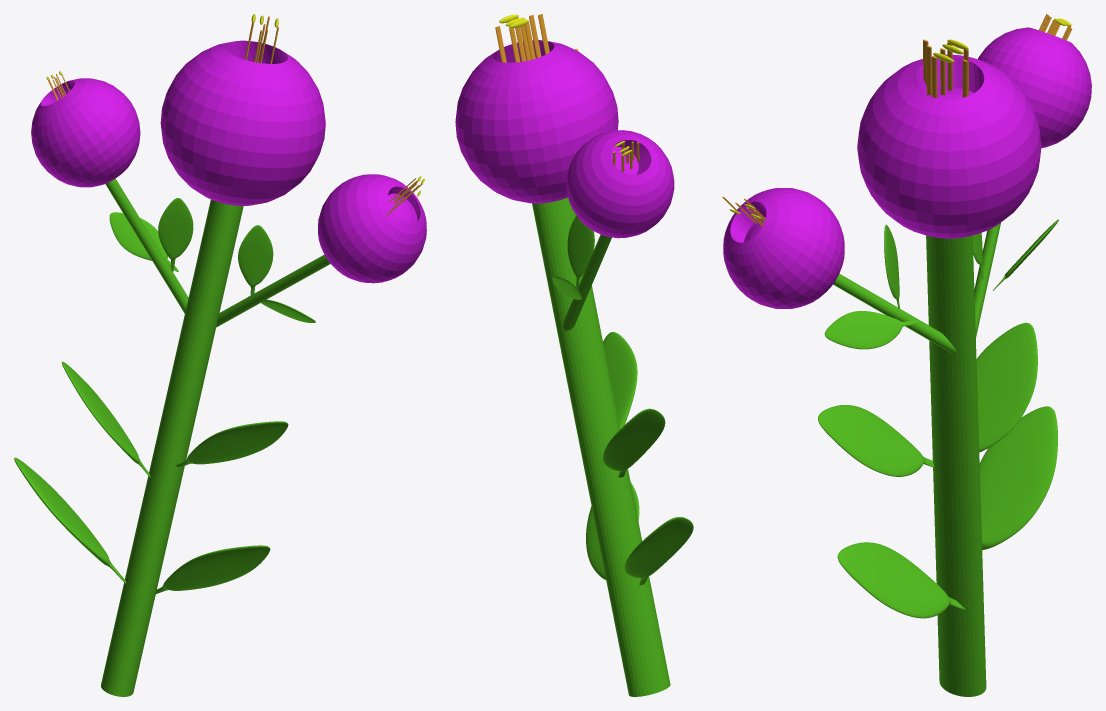
File: flor rosa.blend cópia.fbx
The picture shows the model from 3 angles, left to right: view 1: azimuth 30°, elevation 25°; view 2: azimuth 150°, elevation 25°; view 3: azimuth 270°, elevation 25°; orthographic projection. The views are drawn at different scales.
Parts seen in each view (by area): view 1: Esfera UV, Cilindro, Esfera UV.004, Esfera UV.006, Cubo.005, Cubo.001, Cubo.006, Cilindro.003, Cubo.003, Cubo.004, Cubo.002, Cilindro.010 (+1 smaller); view 2: Cilindro, Esfera UV, Esfera UV.004, Cubo.003, Cubo.006, Cubo.001, Cubo.004, Cilindro.003, Cubo.005, Cubo.008; view 3: Esfera UV, Cilindro, Esfera UV.006, Cubo.006, Esfera UV.004, Cubo.003, Cubo.005, Cubo.001, Cubo.007, Cilindro.010, Cilindro.003, Cubo.002.
Part boxes in pixels (left/top/right/bottom): Esfera UV: left=160, top=40, right=325, bottom=205; Cilindro: left=101, top=199, right=243, bottom=696; Esfera UV.004: left=31, top=78, right=140, bottom=187; Esfera UV.006: left=318, top=174, right=426, bottom=283; Cubo.005: left=156, top=545, right=270, bottom=593; Cubo.001: left=176, top=421, right=288, bottom=467; Cubo.006: left=14, top=457, right=126, bottom=583; Cilindro.003: left=105, top=178, right=188, bottom=313; Cubo.003: left=62, top=361, right=150, bottom=477; Cubo.004: left=158, top=198, right=193, bottom=271; Cubo.002: left=238, top=225, right=273, bottom=295; Cilindro.010: left=216, top=254, right=330, bottom=327; Cilindro: left=532, top=197, right=670, bottom=696; Esfera UV: left=455, top=40, right=618, bottom=203; Esfera UV.004: left=566, top=130, right=674, bottom=238; Cubo.003: left=603, top=408, right=665, bottom=477; Cubo.006: left=624, top=517, right=693, bottom=585; Cubo.001: left=603, top=332, right=637, bottom=428; Cubo.004: left=567, top=215, right=594, bottom=288; Cilindro.003: left=563, top=234, right=611, bottom=330; Cubo.005: left=586, top=482, right=639, bottom=579; Cubo.008: left=552, top=276, right=581, bottom=299; Esfera UV: left=857, top=54, right=1041, bottom=238; Cilindro: left=926, top=235, right=986, bottom=696; Esfera UV.006: left=723, top=188, right=844, bottom=308; Cubo.006: left=979, top=406, right=1057, bottom=549; Esfera UV.004: left=978, top=27, right=1091, bottom=147; Cubo.003: left=976, top=322, right=1037, bottom=452; Cubo.005: left=837, top=542, right=965, bottom=618; Cubo.001: left=818, top=405, right=934, bottom=476; Cubo.007: left=824, top=311, right=919, bottom=349; Cilindro.010: left=833, top=273, right=956, bottom=353; Cilindro.003: left=974, top=223, right=1000, bottom=337; Cubo.002: left=884, top=224, right=899, bottom=308.
Bounding box in the file's own units: 150 × 322 × 150.
